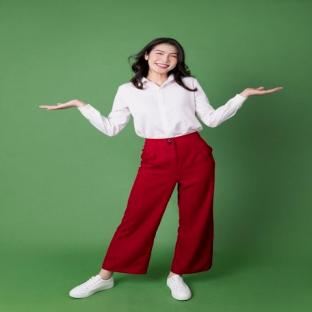Human: (40, 37, 283, 300)
